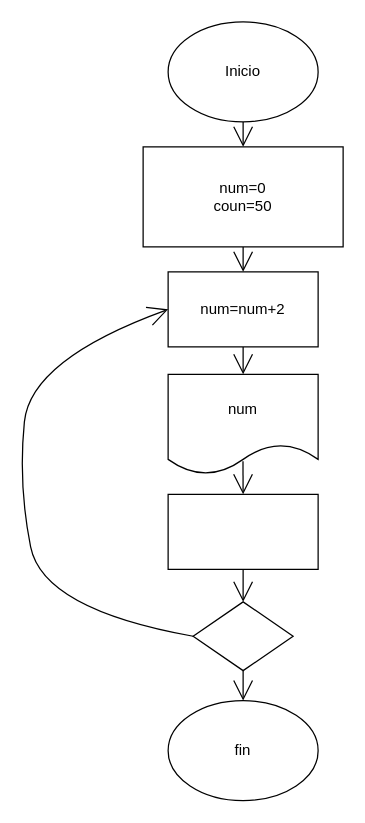
This 365x823 diagram has some shape labels left out. Each missing label, with the box of its shape:
count=0: (192, 601, 293, 671)
count=count-1: (167, 493, 318, 569)
